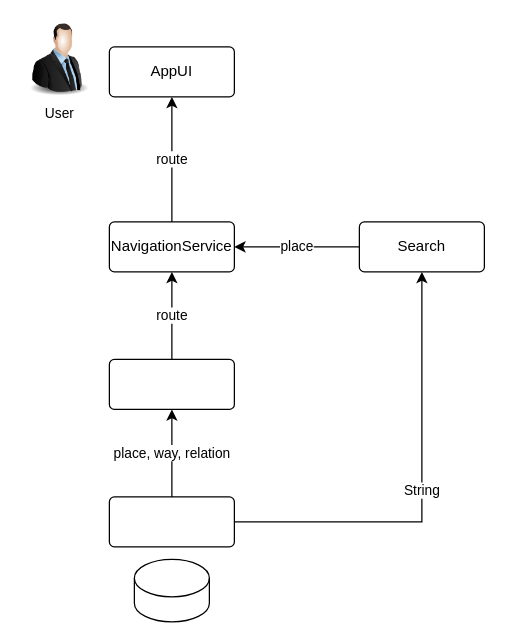
This 506x644 diagram has some shape labels left out. Each missing label, with the centre of its shape:
"Data (csv)" belongs at (x=171, y=521).
"RouteFinder" belongs at (x=171, y=383).
